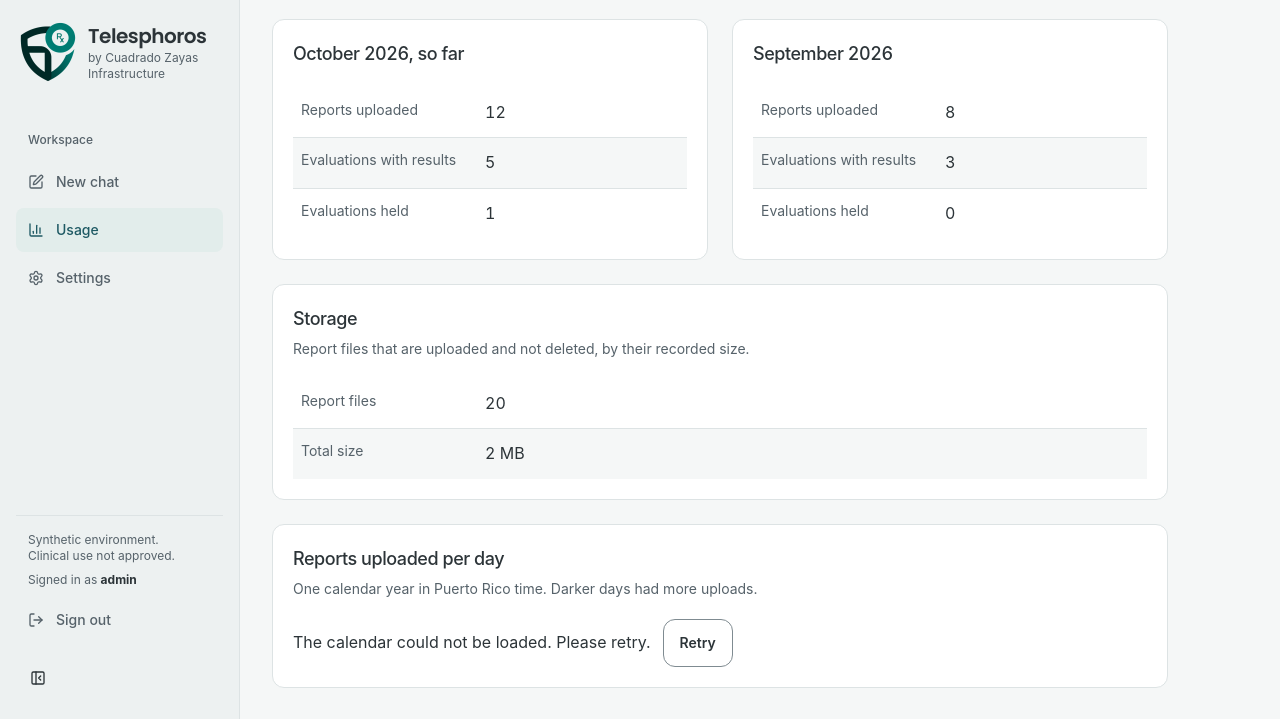
Test case: Usage calendar (specs/028-usage-heatmap) › fails on its own with a Retry that works, leaving the monthly figures in place
This screenshot has width=1280, height=719.
(page scrolled)
Expected: the message shows "The calendar could not be loaded", [293, 632, 651, 652]
Expected: the element "Storage" is shown, [272, 284, 1168, 500]
Click the button "Retry". click: click(698, 643)
box: [663, 619, 733, 667]
(page scrolled)
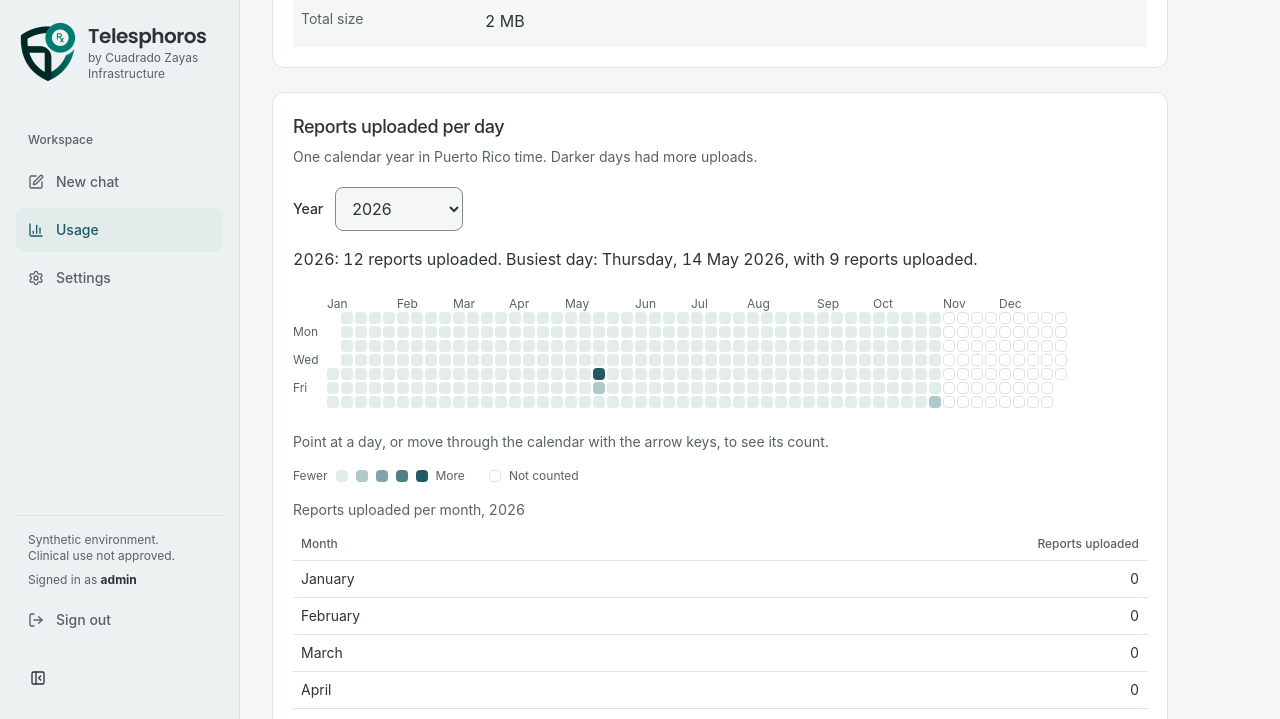
Now the table "Mon Wed Fri" is shown, box [293, 312, 1067, 408]
